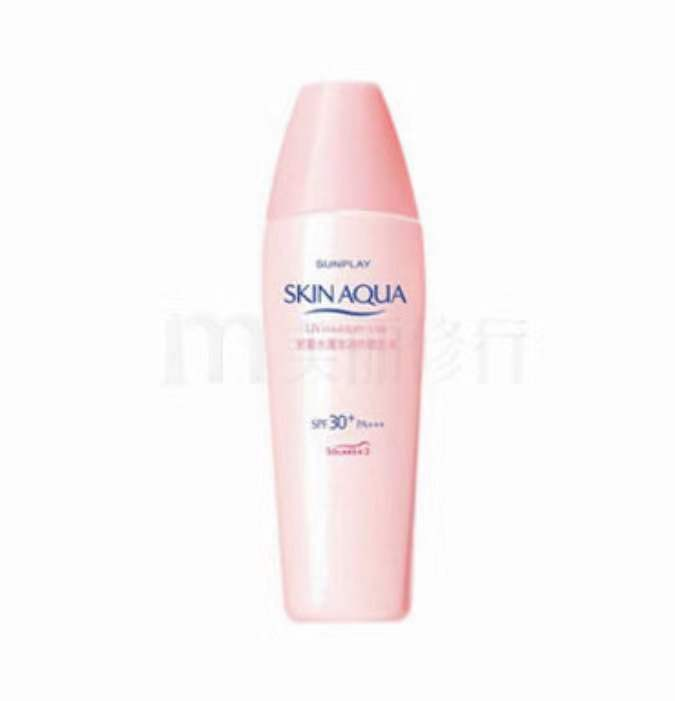cosmetic: (267, 79, 423, 627)
